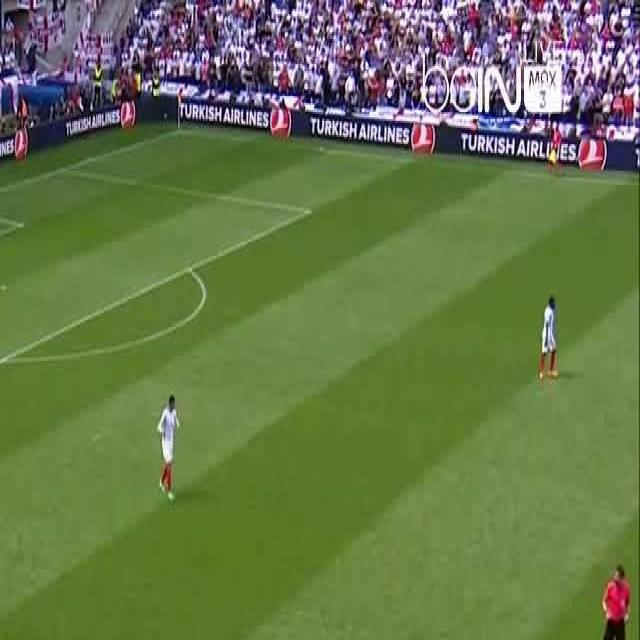player-white: (587, 565, 631, 640), (157, 394, 181, 502), (539, 297, 558, 381), (547, 122, 561, 173)
